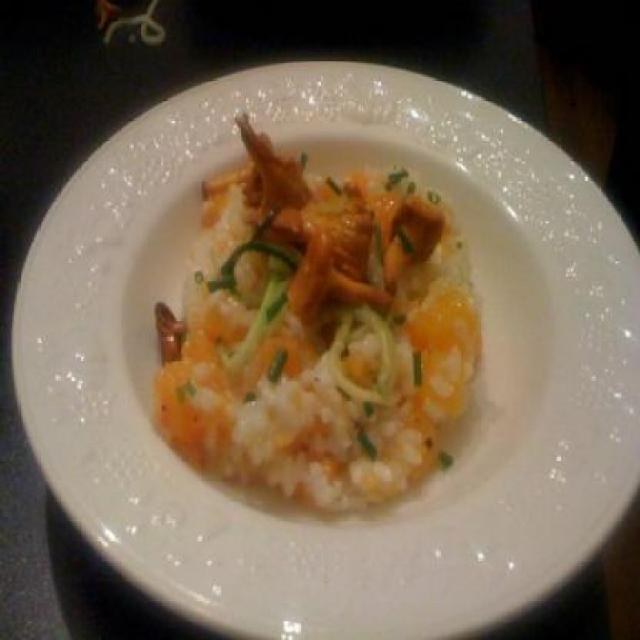Risotto: (190, 161, 482, 528)
